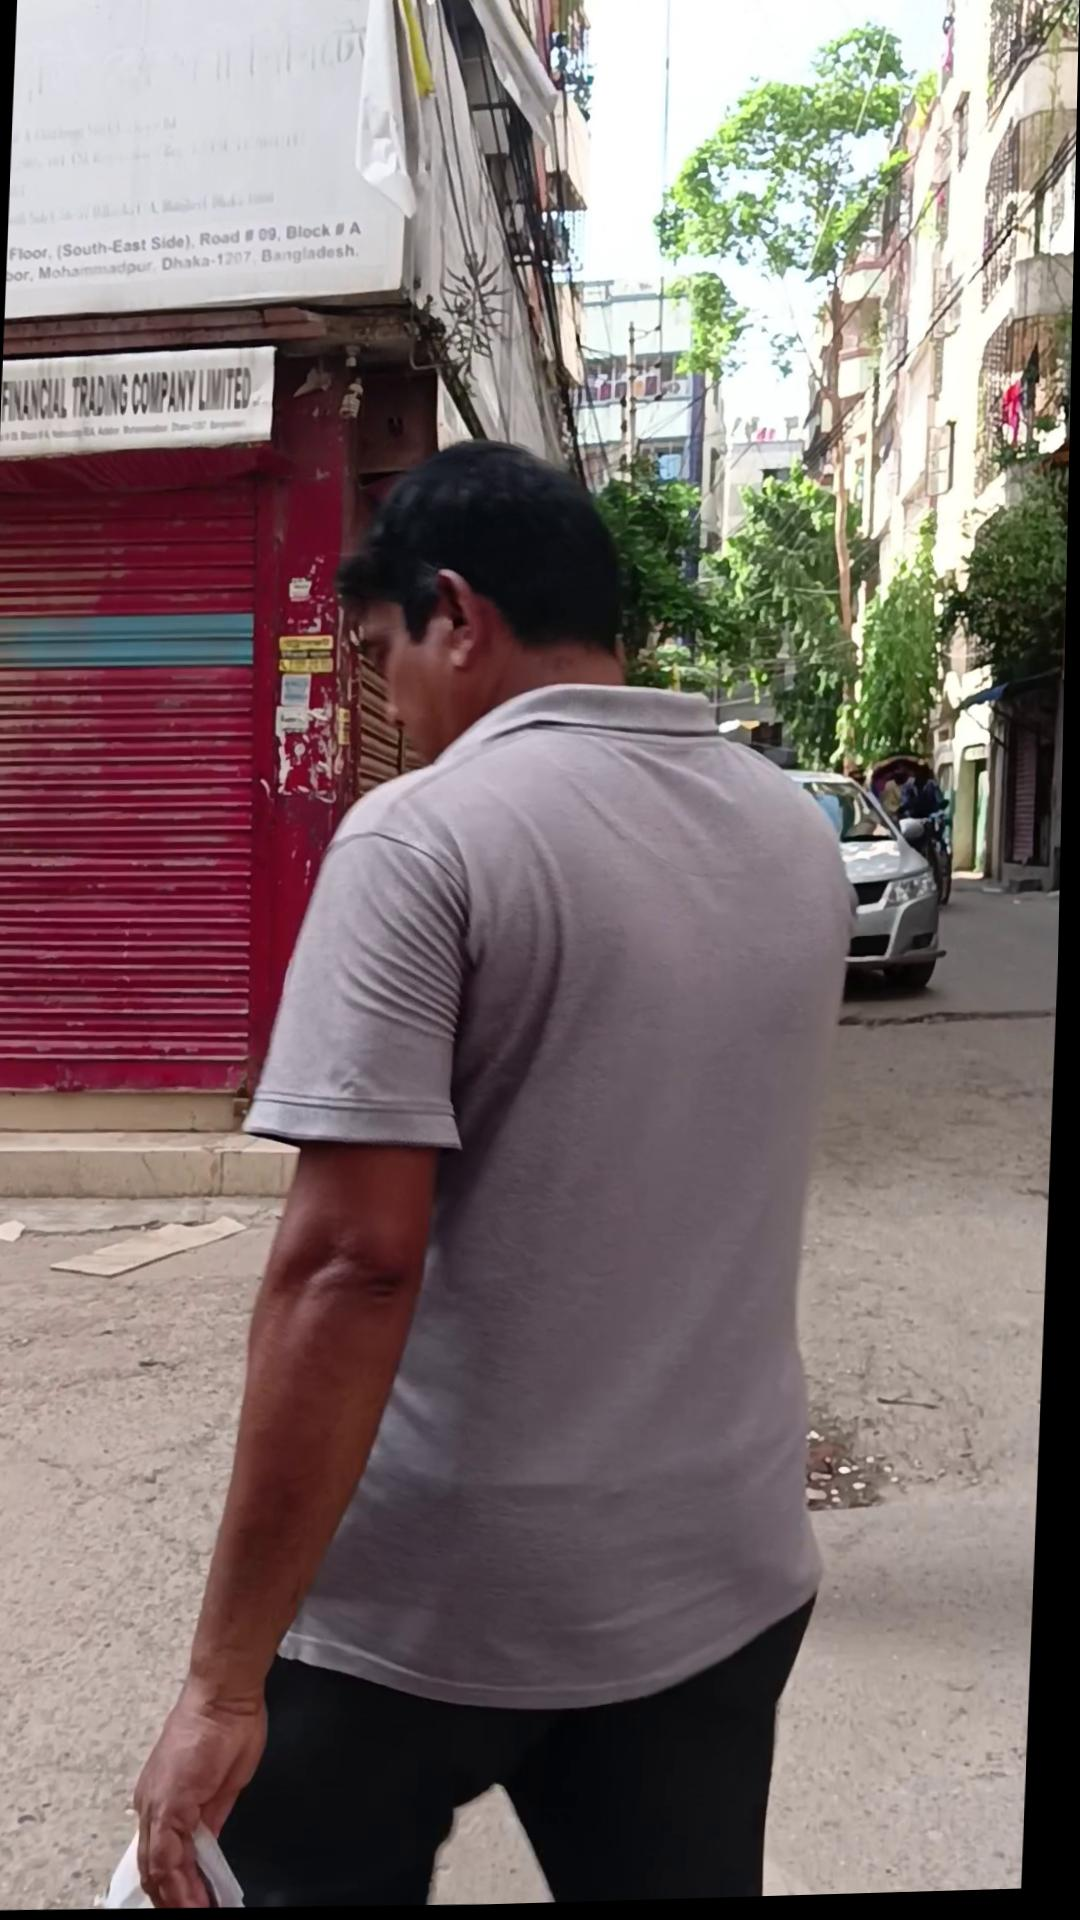Car: (774, 769, 955, 1001)
Crosswalk: (0, 1121, 306, 1207)
Muddy road: (135, 426, 880, 1916)
